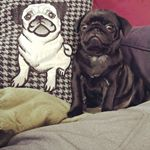puppy: (68, 7, 144, 118)
